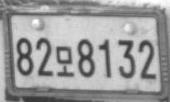1: (97, 38, 116, 78)
2: (138, 38, 157, 80), (35, 36, 54, 77)
3: (117, 38, 136, 78)
8: (76, 37, 95, 78), (15, 36, 34, 76)
모: (55, 45, 75, 77)
